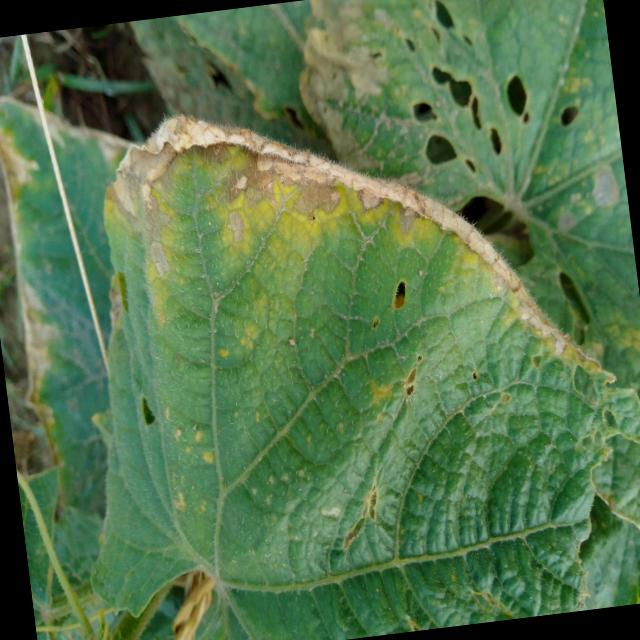cucumber_gummy: (84, 60, 640, 640), (284, 0, 640, 412), (0, 67, 212, 582), (121, 0, 334, 188)
